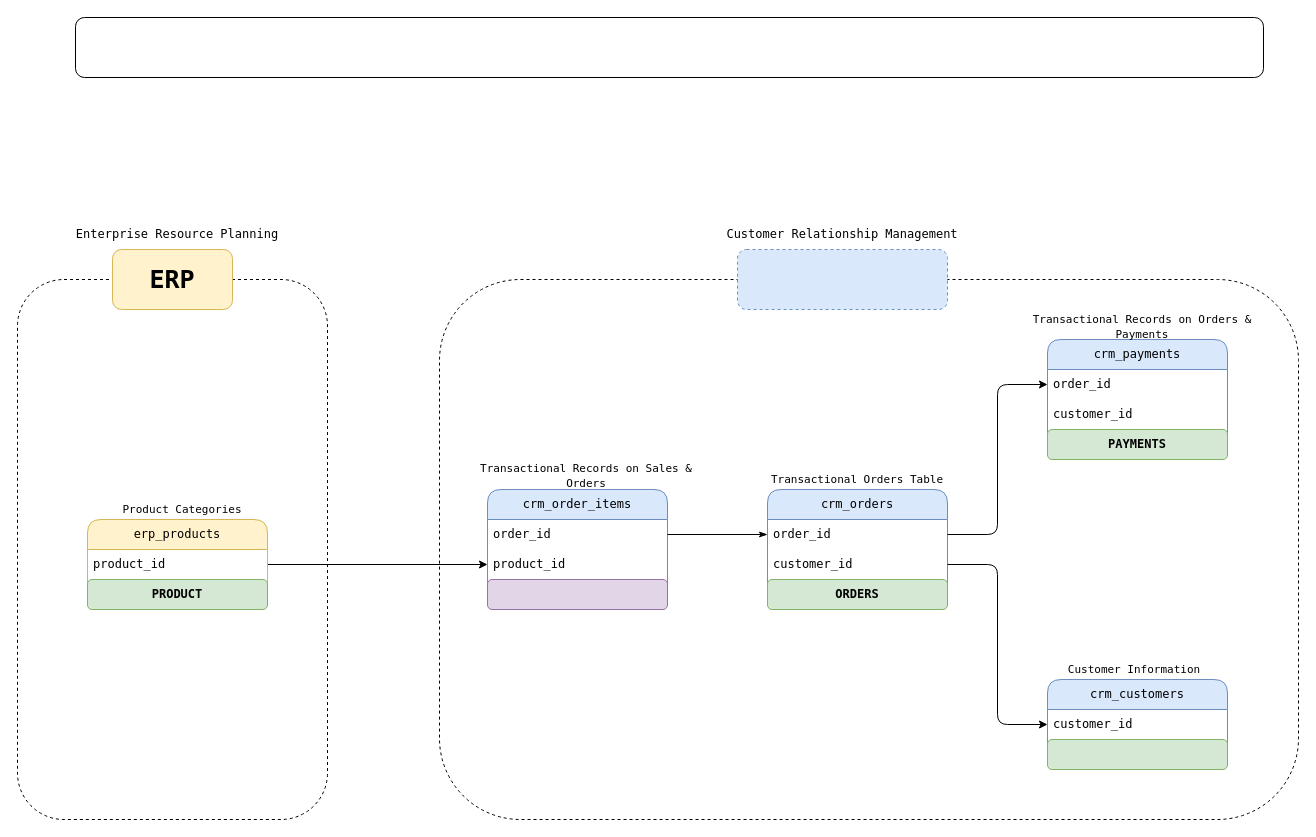
Image size: 1316x837. Some labels were removed from this diagram. Here are the shapes that lost their labels. From the top down, the centre of each, then its label:
the point at 669,47: DATA INTEGRATION
the point at 842,279: CRM
the point at 577,594: SALES
the point at 1137,754: CUSTOMERS
